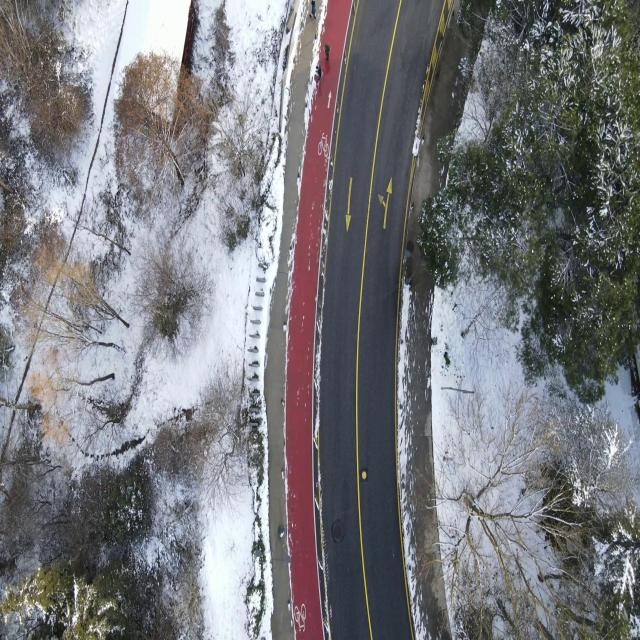p3rson: (308, 0, 316, 20), (324, 42, 331, 62), (315, 65, 322, 80)
